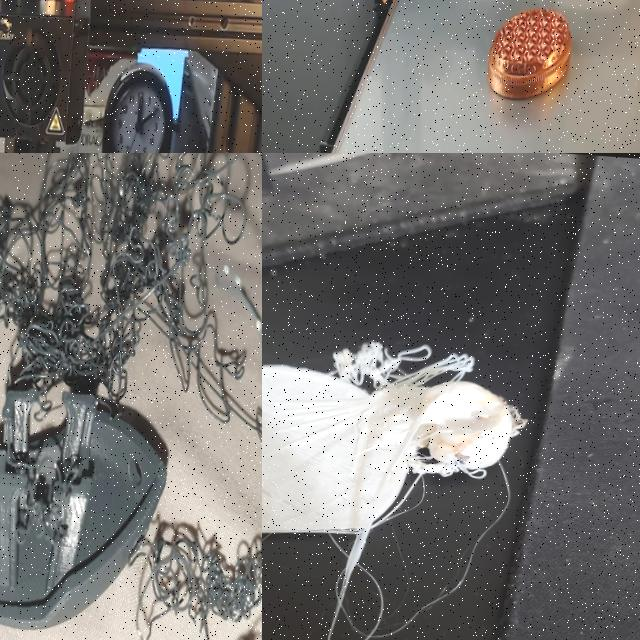spaghetti: (0, 153, 262, 408), (141, 408, 262, 640), (310, 327, 481, 407), (400, 445, 496, 489)
